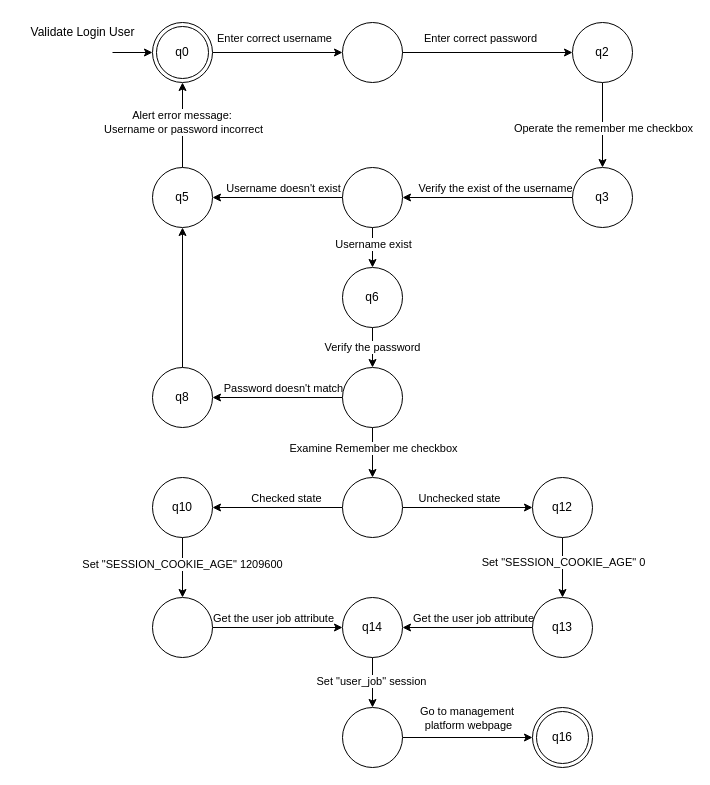
Image size: 710x785. Some labels were removed from this diagram. Here are the shapes that lost their labels. From the top down, the box of each, then its label:
(342, 22, 402, 82): q1
(342, 166, 402, 228): q4
(342, 366, 402, 428): q7
(342, 476, 402, 538): q9
(152, 596, 212, 658): q11
(342, 706, 402, 768): q15
